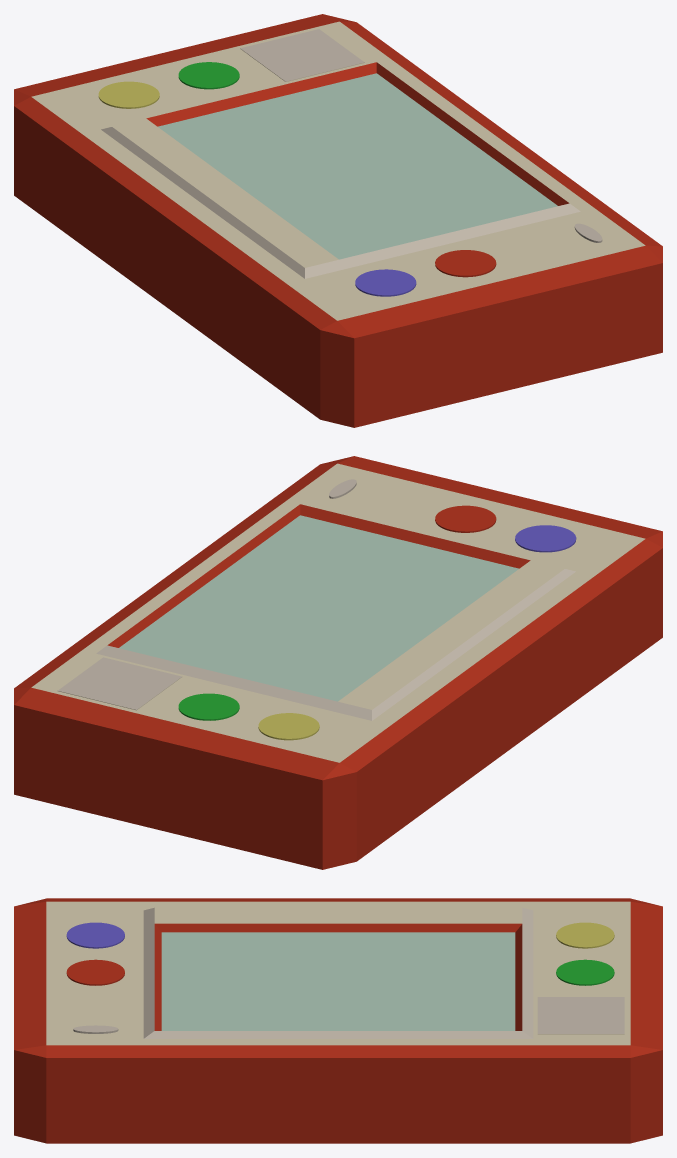
File: ConsoleV2.fbx
3 views of the same model, one above another, from view 1: azimuth 30°, elevation 25°; view 2: azimuth 150°, elevation 25°; view 3: azimuth 270°, elevation 25° (orthographic). The views are drawn at different scales.
Parts seen in each view (by area): view 1: Cube; view 2: Cube; view 3: Cube.
Part boxes in pixels (<box>): Cube: <box>14,14,662,427</box>; Cube: <box>14,456,662,869</box>; Cube: <box>14,898,662,1143</box>.
Bounding box in the file's own units: 394 × 229 × 67.23.
